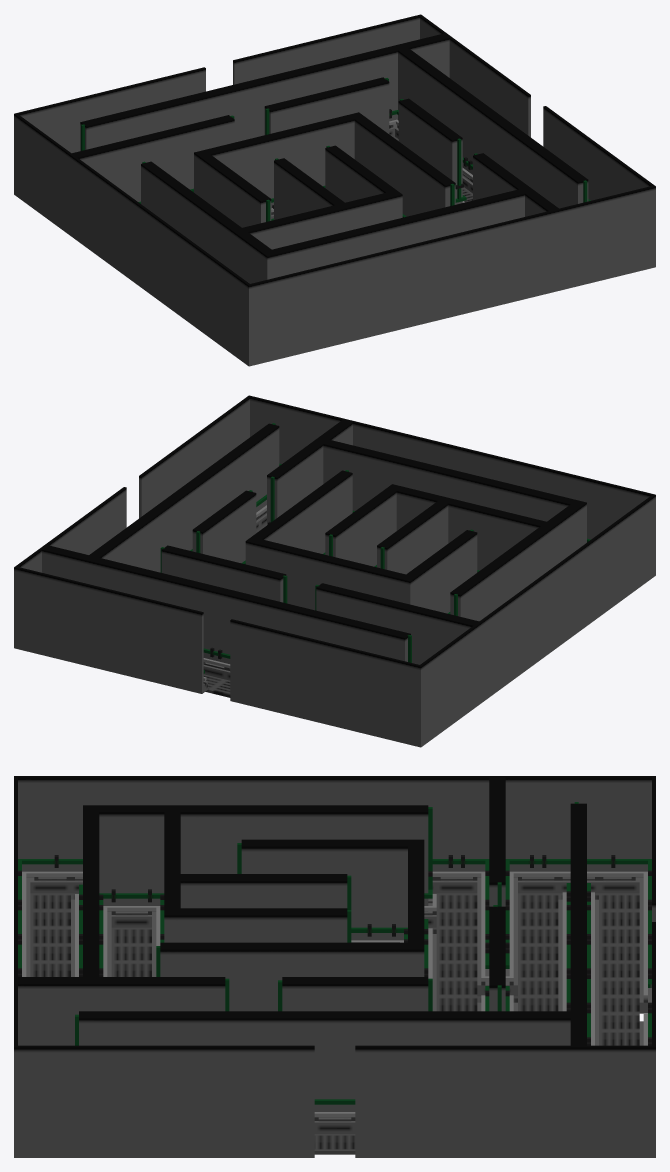
The model's file is Level03pt2.fbx.
3 renders of one model, top to bottom at view 1: azimuth 30°, elevation 25°; view 2: azimuth 150°, elevation 25°; view 3: azimuth 270°, elevation 25°, orthographic. The views are drawn at different scales.
Parts seen in each view (by area): view 1: Union_1; view 2: Union_1; view 3: Union_1.
Part boxes in pixels (x1,y1,x2,y2): Union_1: (14,14,655,366); Union_1: (14,395,655,747); Union_1: (14,776,655,1157).
Size of the model in its own units: 158 by 31 by 158.
